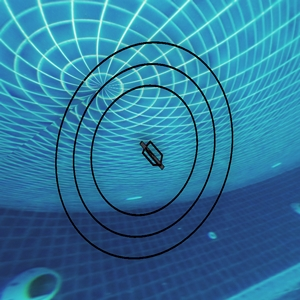circle: (54, 28, 243, 267)
submarine: (144, 148, 163, 166)
